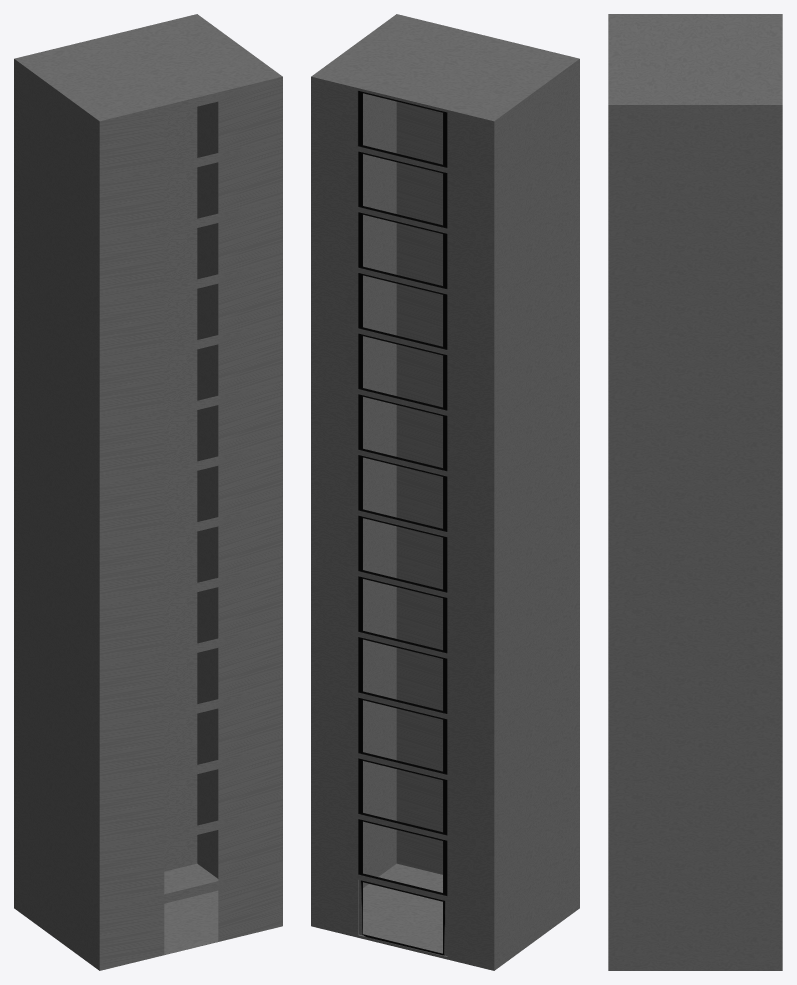
Rendered from elevatorHole.obj.
3 renders of one model, left to right at view 1: azimuth 30°, elevation 25°; view 2: azimuth 150°, elevation 25°; view 3: azimuth 270°, elevation 25°, orthographic.
Visible parts, largest first — view 1: Cube; view 2: Cube; view 3: Cube.
Part boxes in pixels (bbox=[...]): Cube: bbox=[14, 14, 282, 970]; Cube: bbox=[311, 14, 579, 970]; Cube: bbox=[608, 14, 782, 970].
Bounding box in the file's own units: 12.63 × 56 × 10.23.
1 material, 1 textured.
